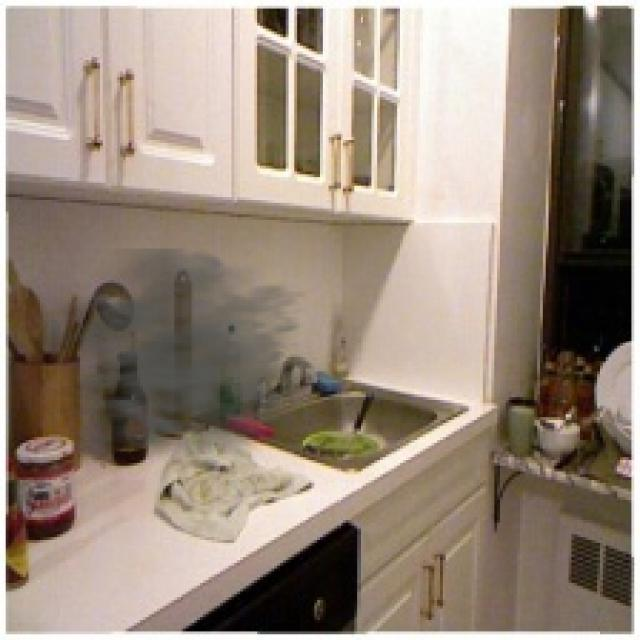smoke: (52, 248, 334, 468)
